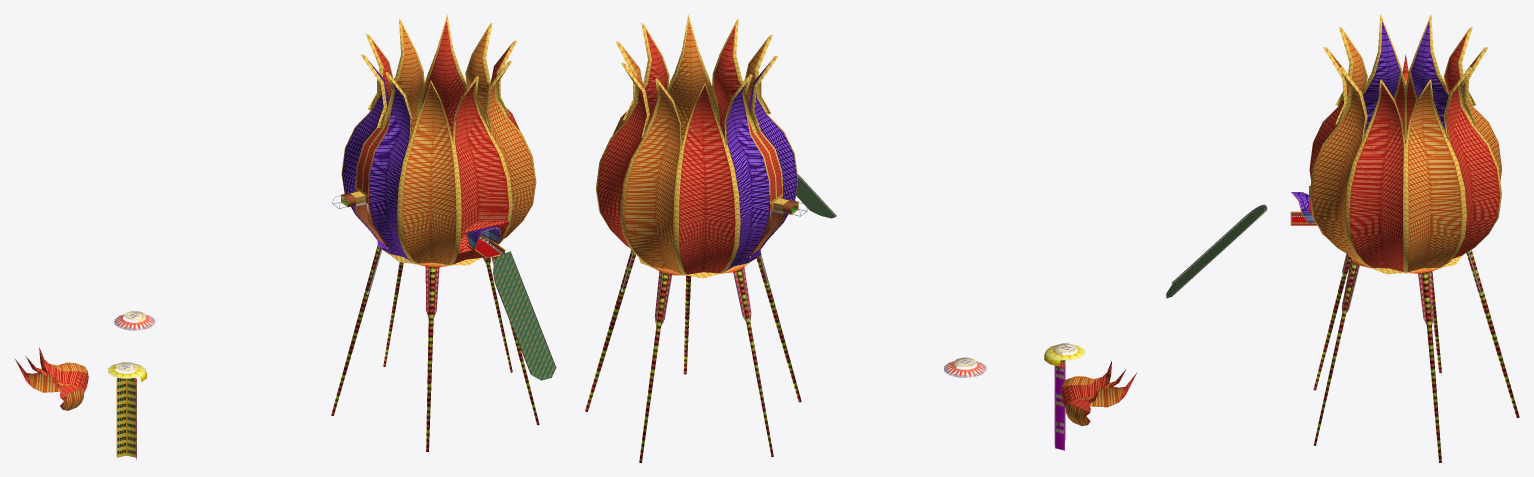
Rendered from Casino Park 2.fbx.
3 views of the same model, side by side, from view 1: azimuth 30°, elevation 25°; view 2: azimuth 150°, elevation 25°; view 3: azimuth 270°, elevation 25° (orthographic). The views are drawn at different scales.
Visible parts, largest first — view 1: Object_2.006, Object_2.008; view 2: Object_2.006, Object_2.008, Object_2.004; view 3: Object_2.006, Object_2.008.
Part boxes in pixels (x1,y1,x2,y2): Object_2.006: (15,14,556,457); Object_2.008: (331,196,539,451); Object_2.006: (595,15,1136,440); Object_2.008: (585,203,801,462); Object_2.004: (1054,366,1064,450); Object_2.006: (1166,14,1501,325); Object_2.008: (1313,250,1519,462).
Size of the model in its own units: 467845 by 326791 by 282290.
